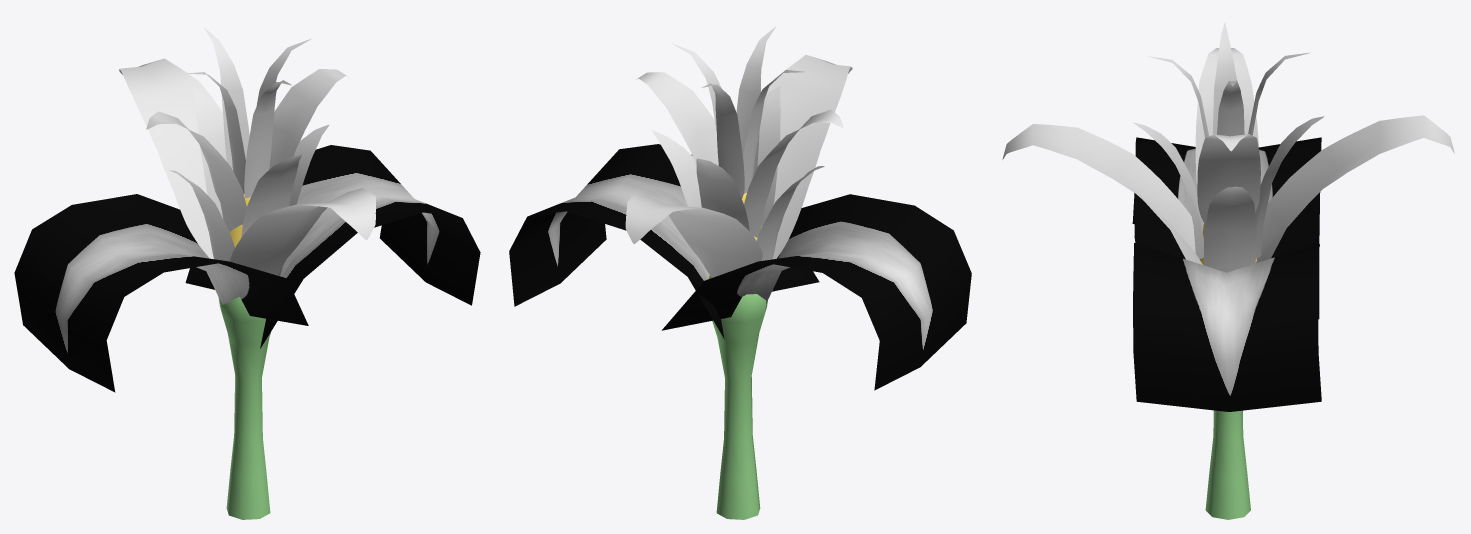
File: PetalPlant.fbx
The picture shows the model from 3 angles, left to right: view 1: azimuth 30°, elevation 25°; view 2: azimuth 150°, elevation 25°; view 3: azimuth 270°, elevation 25°; orthographic projection.
Parts seen in each view (by area): view 1: PetalPlant_Item_LOD0, PetalPlant_Base_LOD0; view 2: PetalPlant_Item_LOD0, PetalPlant_Base_LOD0; view 3: PetalPlant_Item_LOD0, PetalPlant_Base_LOD0.
Part boxes in pixels (x1,y1,x2,y2): PetalPlant_Item_LOD0: (14,27,480,392); PetalPlant_Base_LOD0: (218,194,277,519); PetalPlant_Item_LOD0: (509,26,971,390); PetalPlant_Base_LOD0: (709,193,767,519); PetalPlant_Item_LOD0: (1002,22,1454,411); PetalPlant_Base_LOD0: (1200,223,1256,519).
Size of what is drawn, in the model's own units: 0.4744 by 0.5605 by 0.502.
